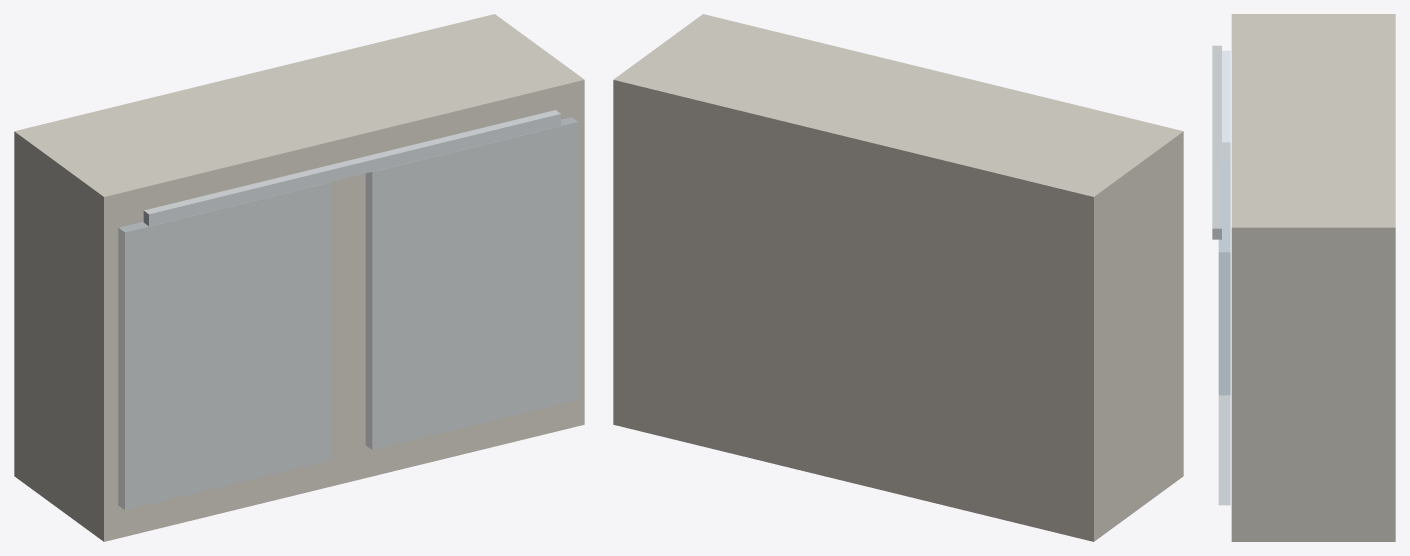
The model's file is wall-cabinet-glass-premium.gltf.
The picture shows the model from 3 angles, left to right: view 1: azimuth 30°, elevation 25°; view 2: azimuth 150°, elevation 25°; view 3: azimuth 270°, elevation 25°; orthographic projection. The views are drawn at different scales.
Parts seen in each view (by area): view 1: wall-cabinet-glass-premium; view 2: wall-cabinet-glass-premium; view 3: wall-cabinet-glass-premium.
Part boxes in pixels (x1,y1,x2,y2): wall-cabinet-glass-premium: (14, 14, 584, 541); wall-cabinet-glass-premium: (613, 14, 1183, 541); wall-cabinet-glass-premium: (1212, 14, 1395, 541).
Bounding box in the file's own units: 1.05 × 0.72 × 0.38.
